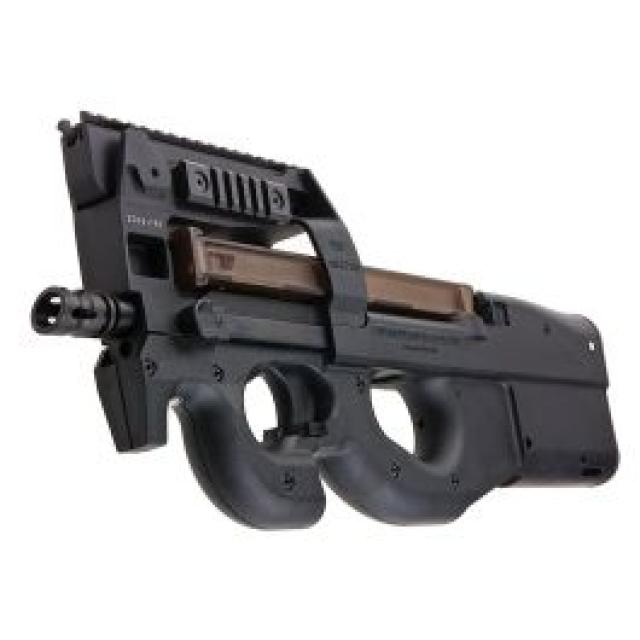SMG: (29, 111, 623, 534)
